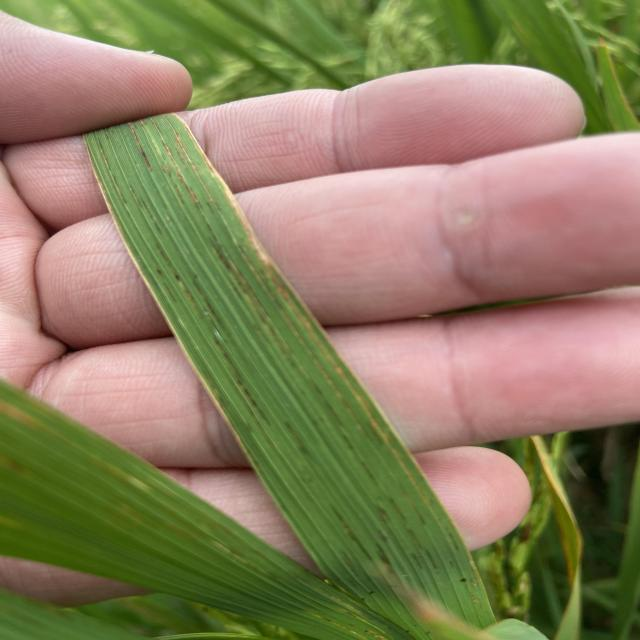Dom soc vi khuan: (213, 243, 291, 354), (159, 139, 200, 203), (98, 143, 127, 204), (126, 123, 154, 173), (172, 130, 198, 172)
